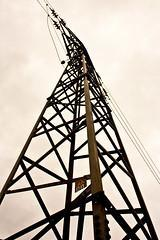power_tower: (1, 4, 159, 240)
